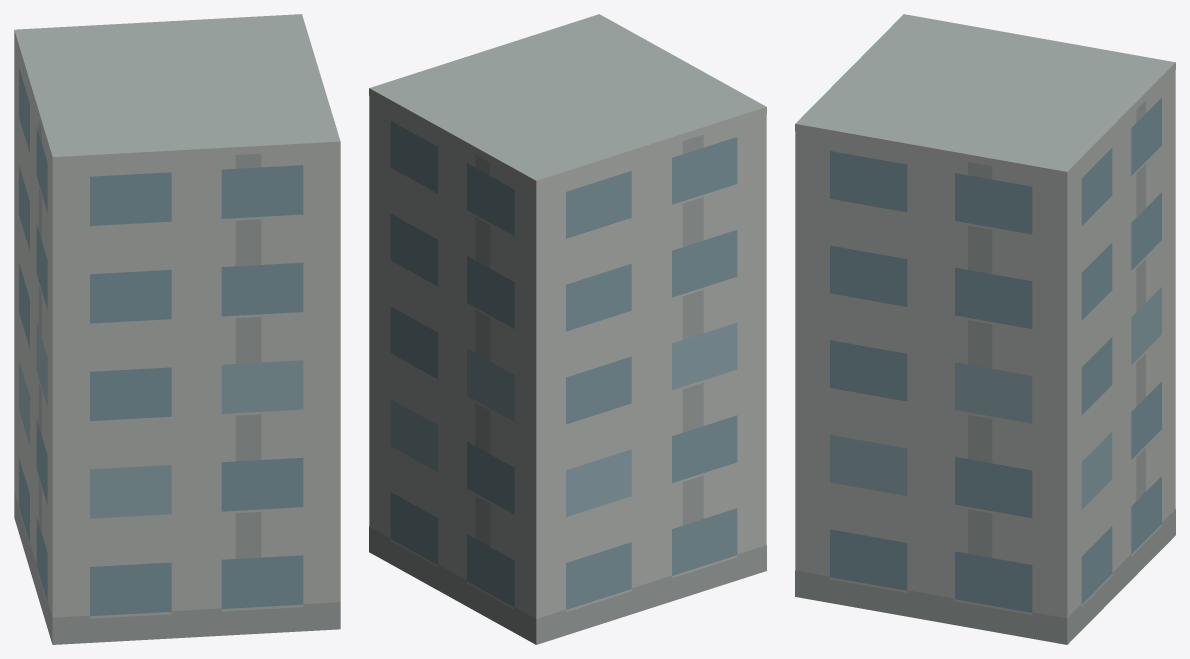
Rendered from residential-19f546df-5353-4fb7-9da7-8a4b72888d7d.glb.
The picture shows the model from 3 angles, left to right: view 1: azimuth 30°, elevation 25°; view 2: azimuth 150°, elevation 25°; view 3: azimuth 270°, elevation 25°; orthographic projection. The views are drawn at different scales.
Visible parts, largest first — view 1: residential-19f546df-5353-4fb7-9da7-8a4b72888d7d.tmp; view 2: residential-19f546df-5353-4fb7-9da7-8a4b72888d7d.tmp; view 3: residential-19f546df-5353-4fb7-9da7-8a4b72888d7d.tmp.
Boxes of the visible parts, x1,y1,x2,y2 form: residential-19f546df-5353-4fb7-9da7-8a4b72888d7d.tmp: (14, 14, 340, 644); residential-19f546df-5353-4fb7-9da7-8a4b72888d7d.tmp: (369, 14, 766, 644); residential-19f546df-5353-4fb7-9da7-8a4b72888d7d.tmp: (795, 14, 1175, 644).
Size of the model in its own units: 10.93 by 15.25 by 11.13.
